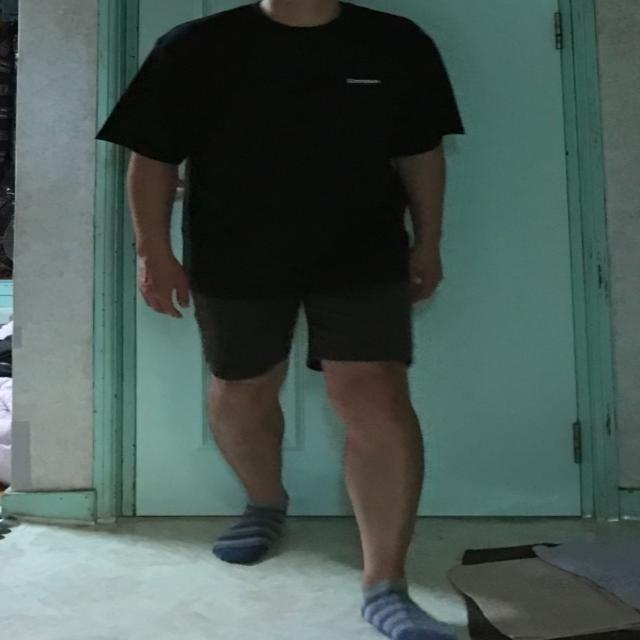shortpants: (188, 256, 414, 379)
shortsleeve: (98, 1, 467, 298)
